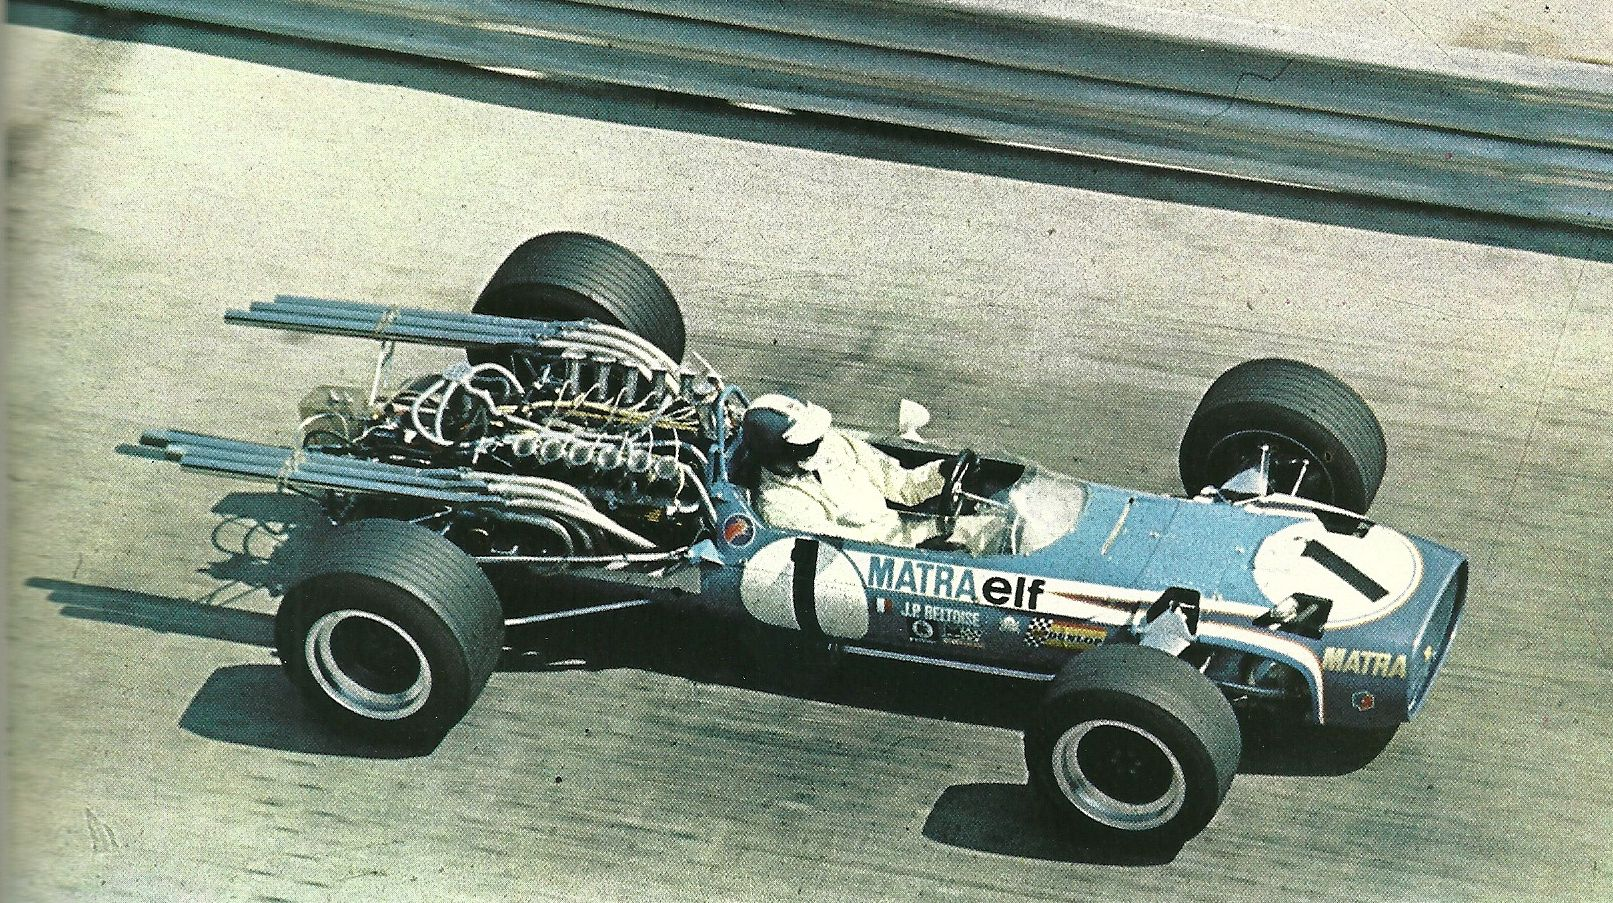f1_car: (102, 202, 1519, 890)
helmet: (742, 384, 838, 481)
